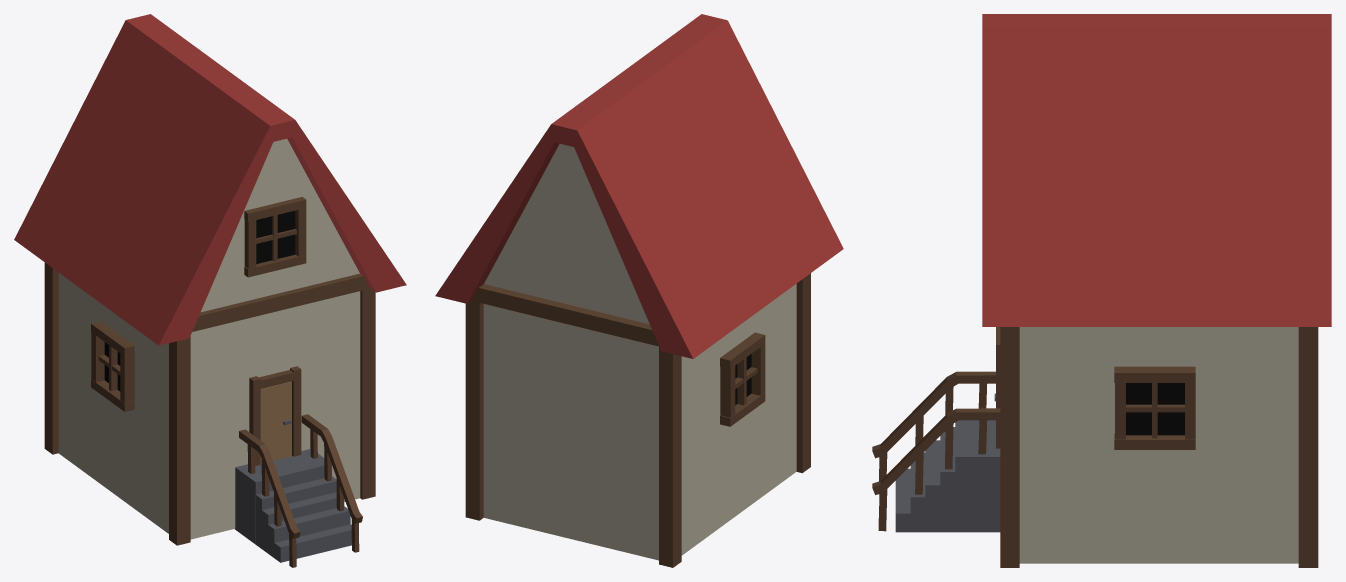
Rendered from House.fbx.
3 views of the same model, side by side, from view 1: azimuth 30°, elevation 25°; view 2: azimuth 150°, elevation 25°; view 3: azimuth 270°, elevation 25° (orthographic). The views are drawn at different scales.
Visible parts, largest first — view 1: Cube; view 2: Cube; view 3: Cube.
Part boxes in pixels (x1,y1,x2,y2): Cube: (14, 14, 406, 567); Cube: (435, 14, 843, 567); Cube: (872, 14, 1331, 567).
Bounding box in the file's own units: 1027 × 1603 × 1363.
